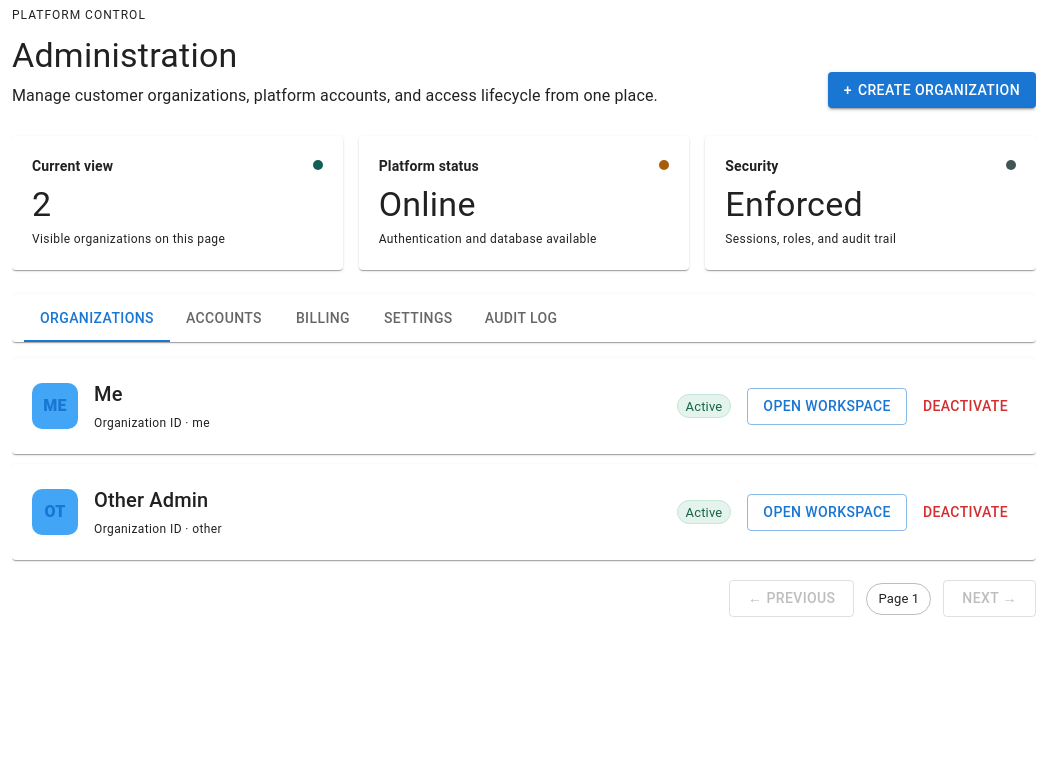
Scenario: shows Login as for other accounts but not for the signed-in admin's own row
This screenshot has width=1048, height=768.
Step 1. Click the tab "Accounts" → (224, 318), box [170,294,278,342]
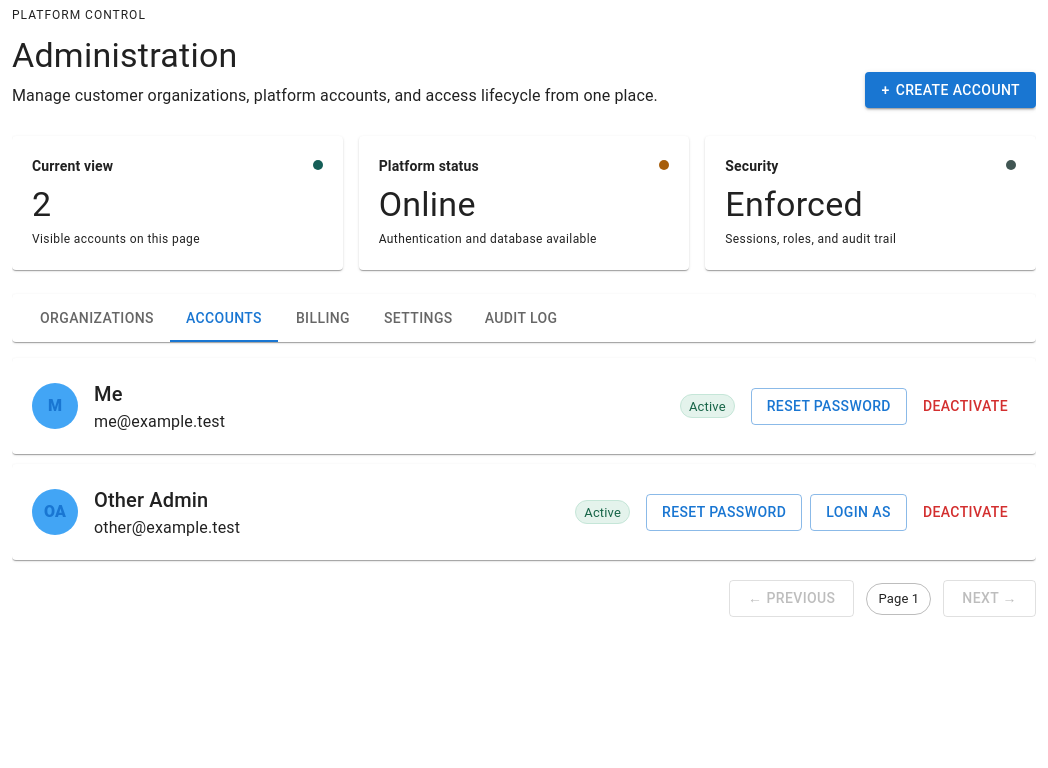
Expected: the button "Login as" is shown, [810,494,907,530]
